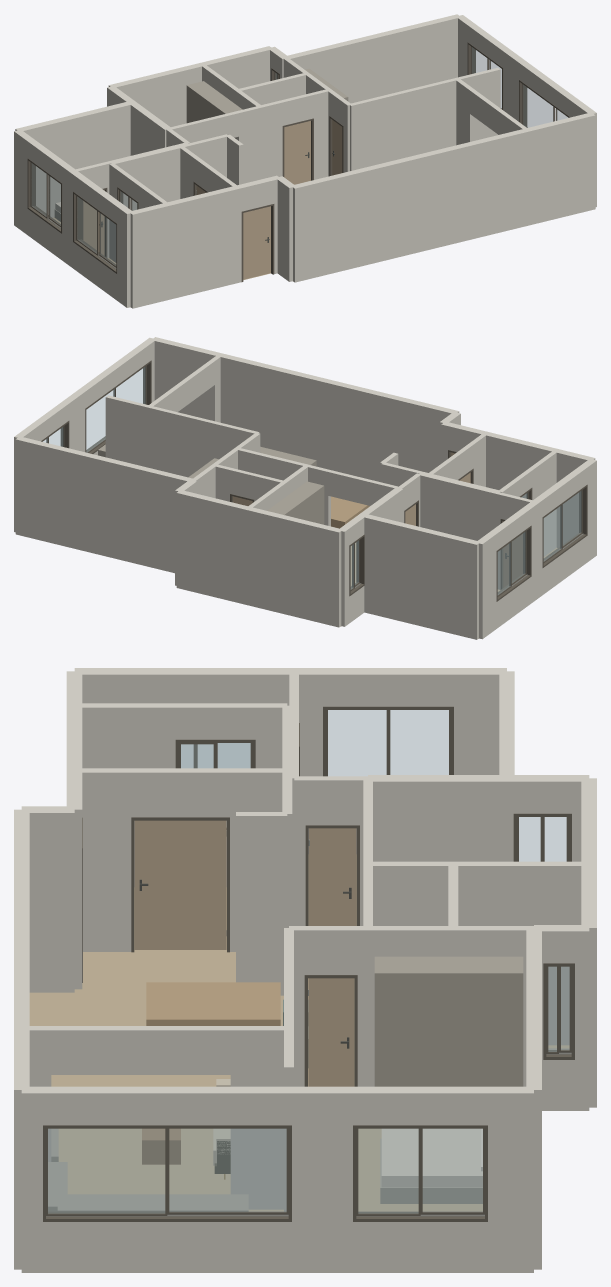
The model's file is space-detailed.gltf.
3 renders of one model, top to bottom at view 1: azimuth 30°, elevation 25°; view 2: azimuth 150°, elevation 25°; view 3: azimuth 270°, elevation 25°, orthographic. The views are drawn at different scales.
Parts seen in each view (by area): view 1: south:0:0, south_left:0:0, north_bed_b:0:0, bed_b_south:0:0, north_bed_a:0:0, north:0:0, bath2_north:0:0, entry:leaf, bath_south:0:0, entry_west:0:0, bath_door:leaf, study_south:2:0 (+41 smaller); view 2: south:0:0, north:0:0, north_bed_b:0:0, north_bed_a:0:0, bed_b_south:0:0, bed_a_south:2:0, south_left:0:0, west:0:0, east:3:1, study_cabinet, study_south:1:1, bath2_west:2:0 (+35 smaller); view 3: floor, wardrobe, study_bath:0:0, east:3:0, study_west:2:0, bath2_door:leaf, east:2:0, east:3:1, east_kitchen_window:glass_1, east_kitchen_window:glass_0, bath2_east:2:0, kitchen_west:1:1 (+57 smaller).
Part boxes in pixels (left/top/right/bottom): south:0:0: left=291, top=113, right=595, bottom=282; south_left:0:0: left=130, top=185, right=241, bottom=308; north_bed_b:0:0: left=286, top=14, right=460, bottom=103; bed_b_south:0:0: left=349, top=67, right=500, bottom=170; north_bed_a:0:0: left=15, top=102, right=130, bottom=217; north:0:0: left=108, top=46, right=272, bottom=126; bath2_north:0:0: left=111, top=134, right=227, bottom=210; entry:leaf: left=243, top=206, right=270, bottom=279; bath_south:0:0: left=260, top=100, right=282, bottom=178; entry_west:0:0: left=276, top=176, right=293, bottom=281; bath_door:leaf: left=284, top=121, right=310, bottom=184; study_south:2:0: left=236, top=106, right=261, bottom=183; south:0:0: left=152, top=337, right=459, bottom=481; north:0:0: left=176, top=490, right=342, bottom=627; north_bed_b:0:0: left=15, top=436, right=194, bottom=573; north_bed_a:0:0: left=361, top=513, right=478, bottom=639; bed_b_south:0:0: left=105, top=395, right=259, bottom=477; bed_a_south:2:0: left=419, top=473, right=502, bottom=589; south_left:0:0: left=482, top=431, right=595, bottom=547; west:0:0: left=475, top=532, right=496, bottom=639; east:3:1: left=78, top=342, right=151, bottom=408; study_cabinet: left=267, top=481, right=324, bottom=524; study_south:1:1: left=328, top=470, right=394, bottom=505; bath2_west:2:0: left=528, top=451, right=556, bottom=556; floor: left=29, top=854, right=569, bottom=1211; wardrobe: left=374, top=956, right=523, bottom=1086; study_bath:0:0: left=368, top=861, right=589, bottom=1045; east:3:0: left=43, top=1222, right=291, bottom=1272; study_west:2:0: left=368, top=775, right=513, bottom=861; bath2_door:leaf: left=134, top=820, right=226, bottom=949; east:2:0: left=292, top=1086, right=352, bottom=1272; east:3:1: left=43, top=1086, right=291, bottom=1125; east_kitchen_window:glass_1: left=48, top=1129, right=164, bottom=1213; east_kitchen_window:glass_0: left=169, top=1129, right=286, bottom=1211; bath2_east:2:0: left=76, top=768, right=131, bottom=951; kitchen_west:1:1: left=51, top=1026, right=230, bottom=1074.
Size of the model in its own units: 14.24 by 2.81 by 8.24.
